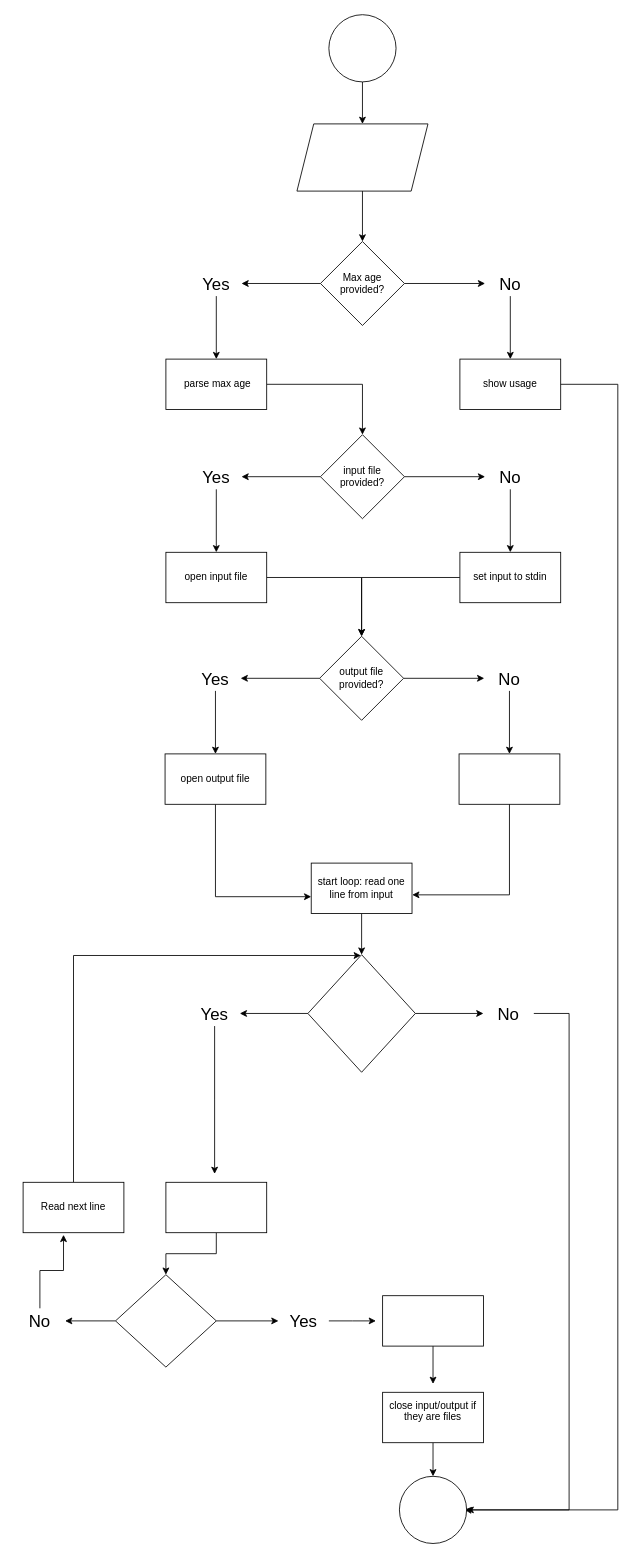
This 639x1558 diagram has some shape labels left out. The box of each missing label's shape, as (x1, y1, x2, y2) in pixels:
line successfully read?: (307, 954, 415, 1072)
print summary: (382, 1295, 483, 1346)
process line (skip if empty, print errors if age missing or malformed etc.: (165, 1181, 267, 1233)
Reached end of file?: (115, 1274, 216, 1367)
read command-line arguments: (296, 123, 428, 191)
set output to stdout: (458, 753, 560, 804)
